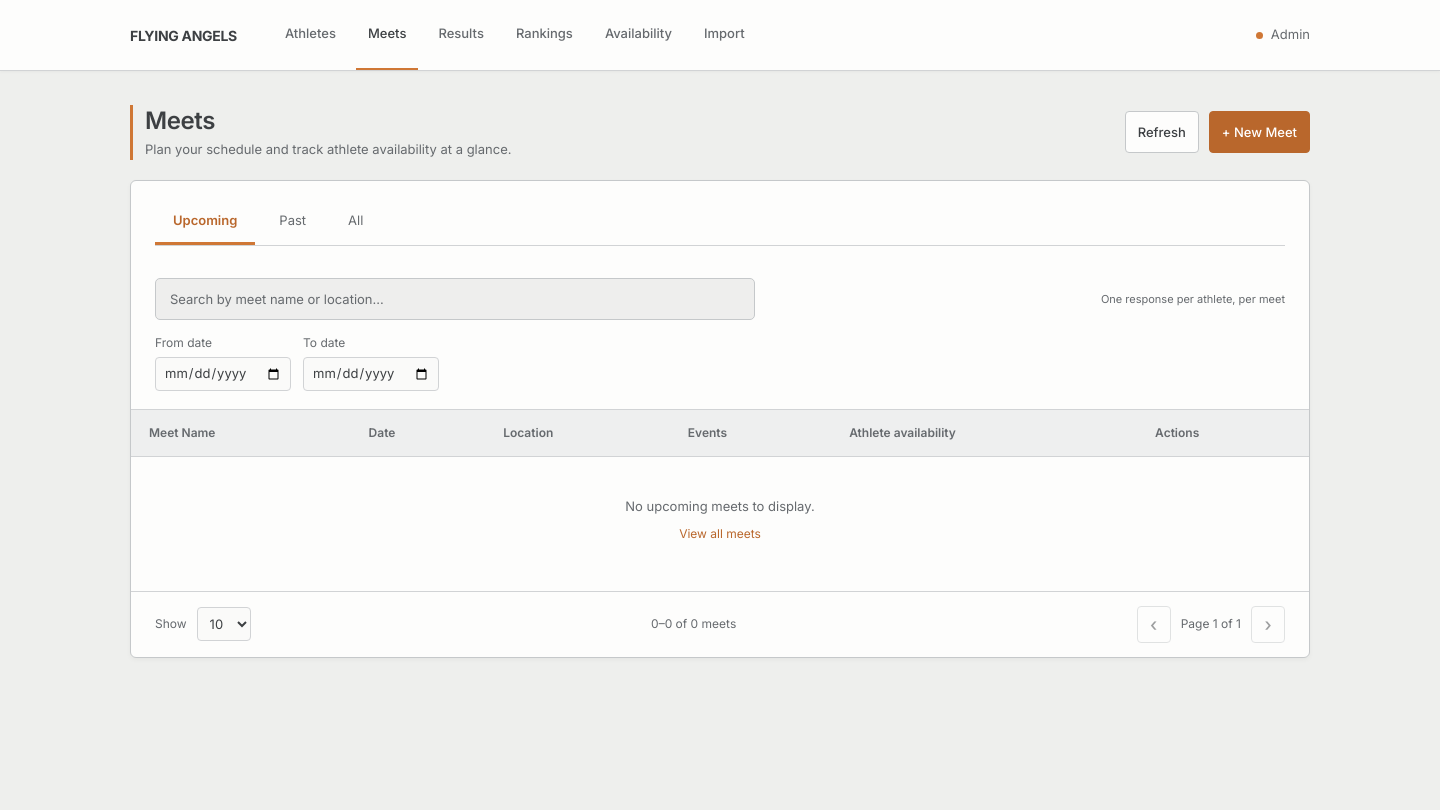
Test: Meets List › distinguishes an empty list from no search matches
Expected: the text "No upcoming meets to display." is shown, 625,498 -> 815,514
Click the button "View all meets". click: (720, 534)
box: 673,517 -> 767,551
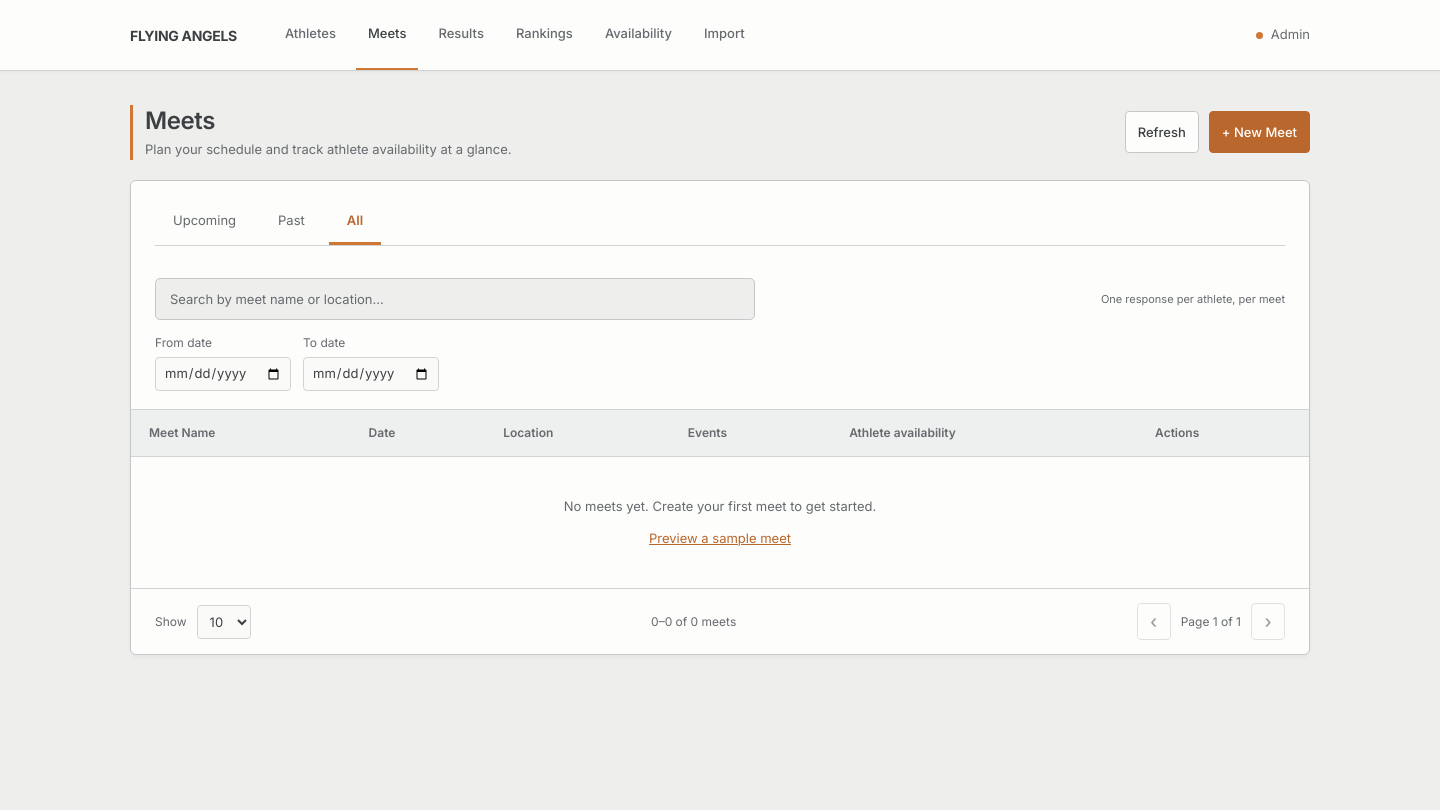
Result: the text "No meets yet. Create your first meet to get started." is shown at 564,498 -> 876,514
Type "missing" into the search field. click: (455, 299)
box: 155,278 -> 755,320
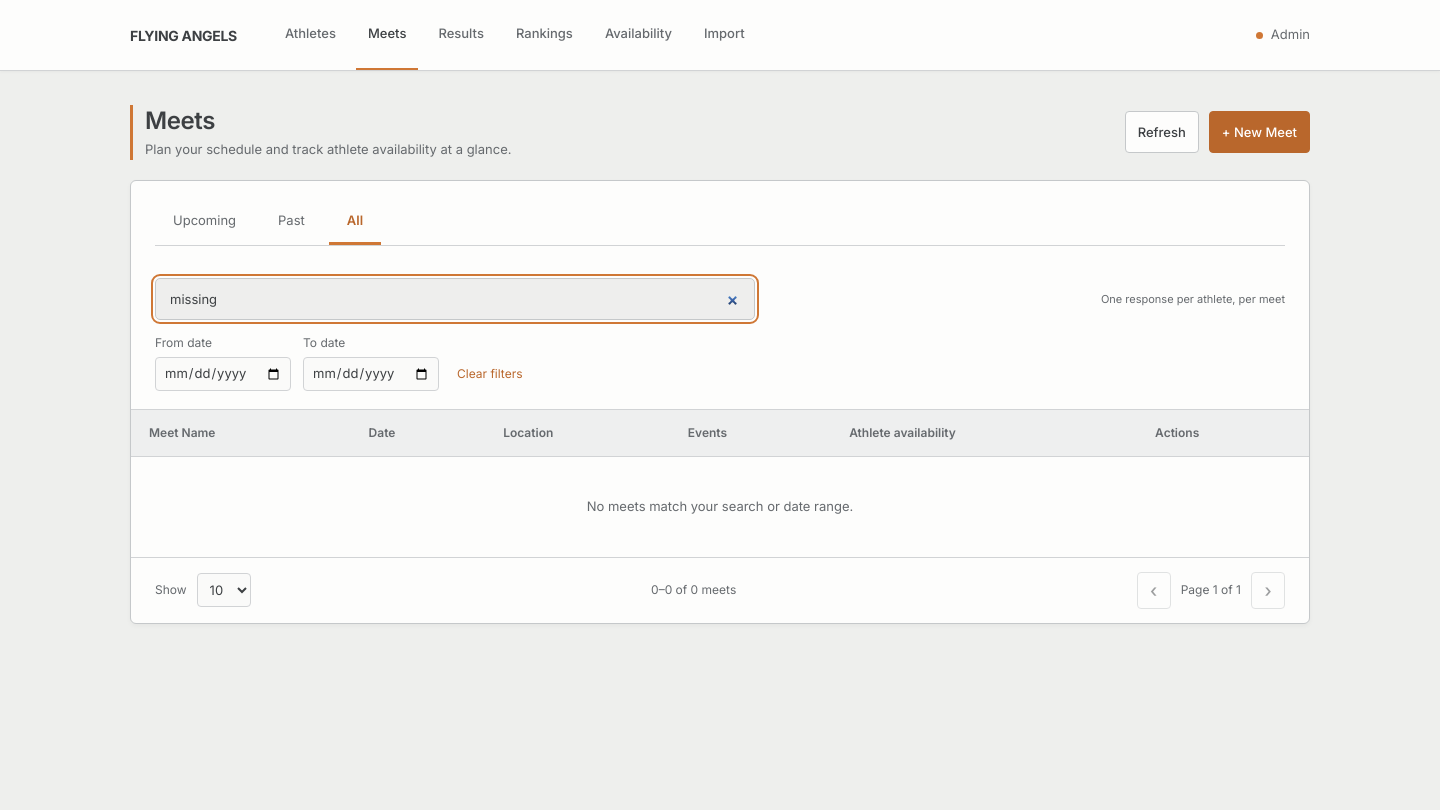
Expected: the text "0–0 of 0 meets" is shown, 651,581 -> 736,599
Result: the text "No meets match your search or date range." is shown at 587,498 -> 853,514
